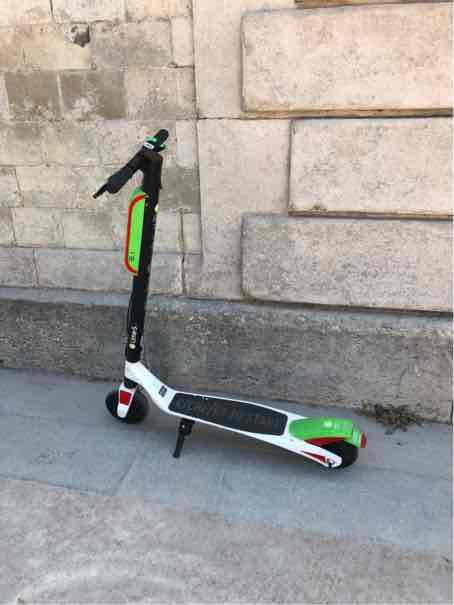scooter: (92, 117, 368, 471)
